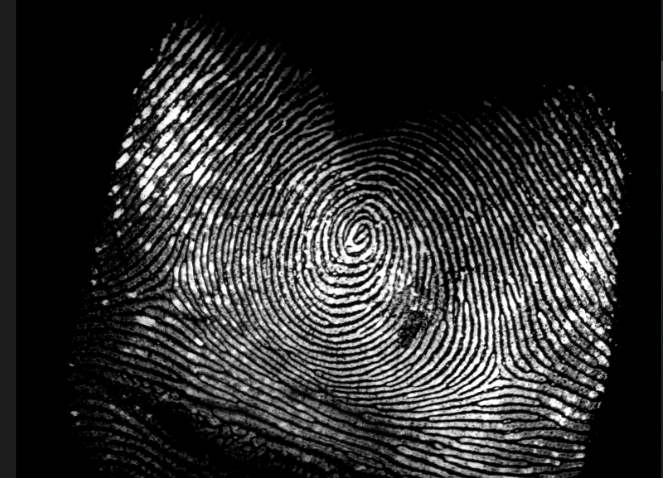nucelo: (340, 208, 376, 259)
verticilo: (472, 353, 525, 394), (146, 263, 186, 307)
